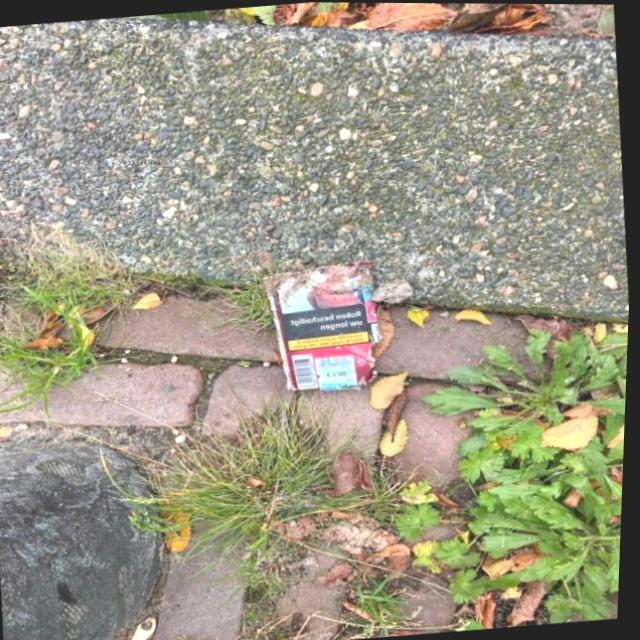Paper: (259, 255, 394, 398)
